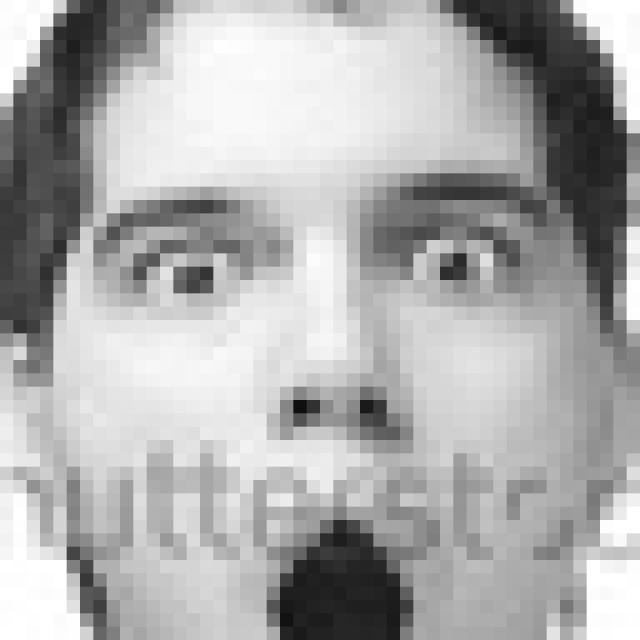surprise: (89, 179, 558, 640)
